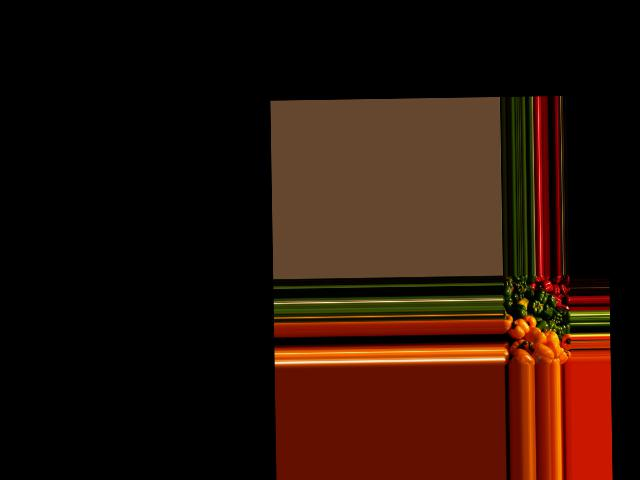bell_pepper: (501, 275, 513, 291)
